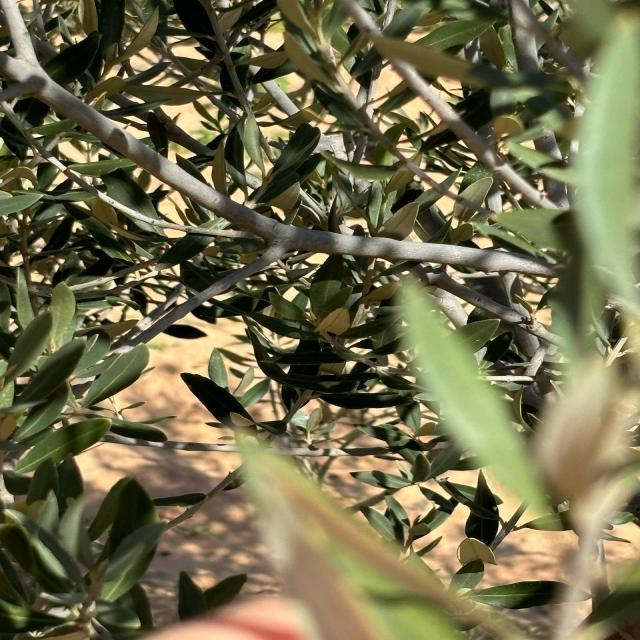Healthy: (167, 166, 540, 274), (0, 52, 168, 178), (29, 140, 222, 236), (136, 255, 274, 344), (14, 418, 110, 474), (11, 339, 85, 410), (81, 345, 149, 408), (0, 312, 52, 394), (439, 280, 519, 322)
